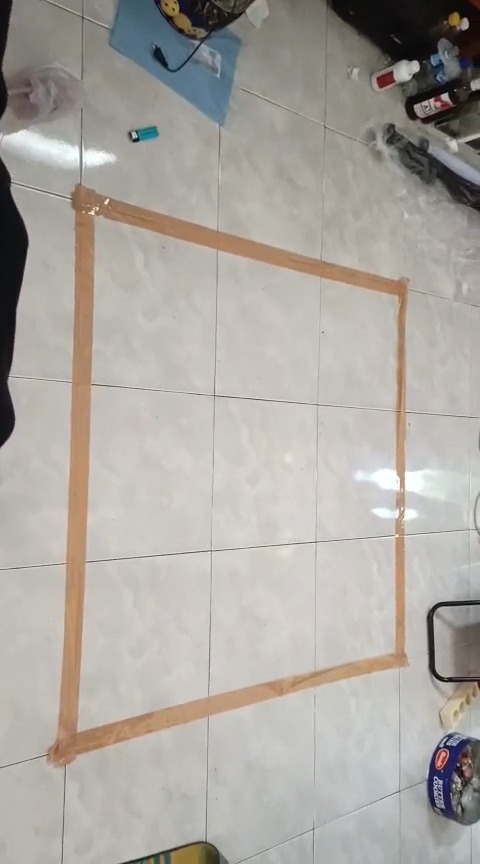floor marking: (49, 184, 405, 763)
